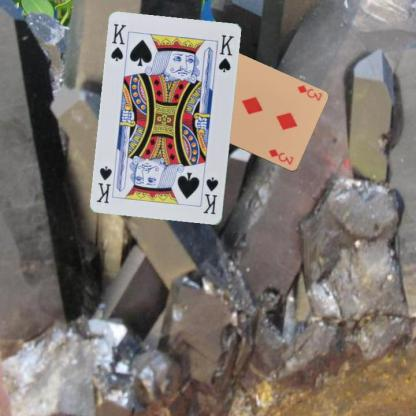3d: (294, 82, 323, 102)
Ks: (108, 21, 128, 63), (200, 175, 219, 216)
